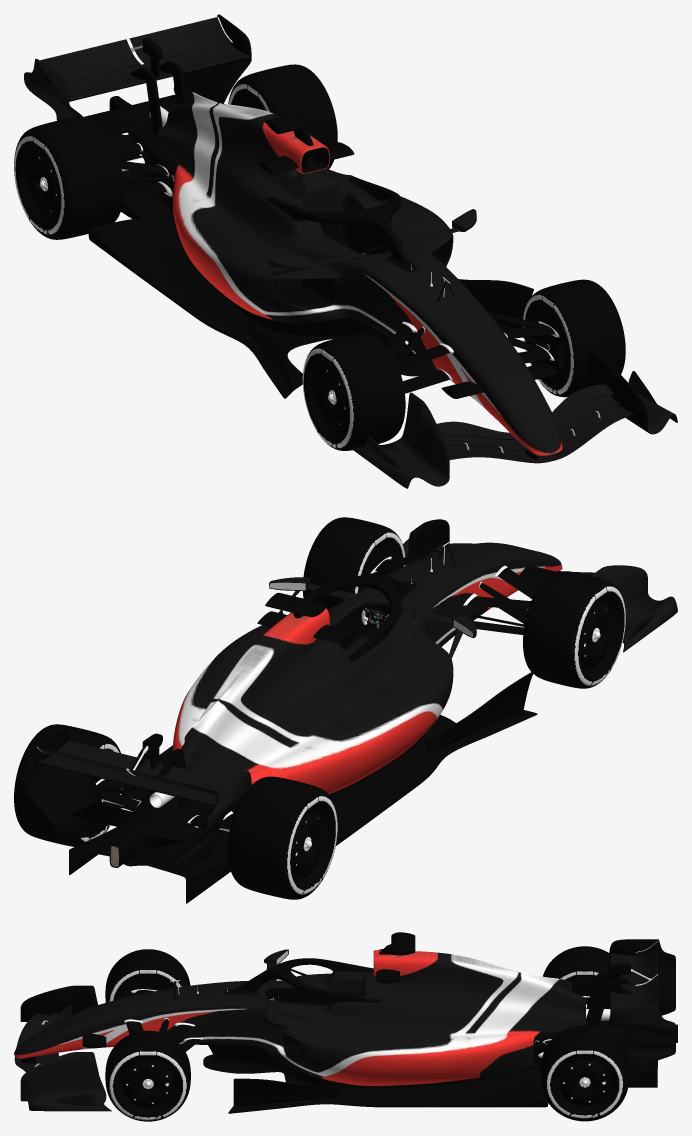
File: 2026-turn-one-car.glb
3 renders of one model, top to bottom at view 1: azimuth 30°, elevation 25°; view 2: azimuth 150°, elevation 25°; view 3: azimuth 270°, elevation 25°, orthographic. The views are drawn at different scales.
Parts seen in each view (by area): view 1: main_body, floor, front_tire, rear_tire, front_wing_side_plates, rear_wing_drs, rear_wing_side, front_control_arms, rear_wing_main_part, front_wing_bottom, front_wheel_cover, rear_wheel_cover (+10 smaller); view 2: main_body, floor, front_tire, rear_tire, rear_wing_side, front_wing_side_plates, rear_wing_main_part, front_control_arms, rear_wing_bottom_holder, rear_wheel_cover, front_wheel_cover, top_intake_details (+6 smaller); view 3: main_body, floor, rear_tire, front_tire, front_wing_side_plates, rear_wing_side, front_wheel_cover, rear_wheel_cover, rear_wing_drs, rear_wing_holder, top_intake_details, rear_wing_main_part (+8 smaller).
Boxes of the visible parts, x1,y1,x2,y2 form: main_body: (155, 90, 562, 455); floor: (88, 96, 533, 398); front_tire: (302, 279, 625, 450); rear_tire: (14, 64, 337, 239); front_wing_side_plates: (353, 348, 677, 488); rear_wing_drs: (40, 17, 231, 82); rear_wing_side: (24, 14, 251, 120); front_control_arms: (387, 312, 559, 393); rear_wing_main_part: (66, 43, 249, 101); front_wing_bottom: (446, 404, 634, 463); front_wheel_cover: (311, 360, 348, 435); rear_wheel_cover: (23, 147, 60, 222); main_body: (173, 542, 562, 797); floor: (69, 611, 537, 903); front_tire: (302, 517, 625, 688); rear_tire: (14, 724, 337, 899); rear_wing_side: (24, 726, 251, 868); front_wing_side_plates: (402, 519, 677, 652); rear_wing_main_part: (37, 740, 229, 806); front_control_arms: (370, 555, 538, 634); rear_wing_bottom_holder: (71, 802, 205, 844); rear_wheel_cover: (291, 807, 328, 882); front_wheel_cover: (579, 597, 616, 673); top_intake_details: (257, 592, 354, 643); main_body: (14, 950, 585, 1086); floor: (203, 1020, 677, 1113); rear_tire: (540, 946, 629, 1121); front_tire: (105, 949, 190, 1121); front_wing_side_plates: (20, 985, 111, 1111); rear_wing_side: (609, 939, 675, 1067); front_wheel_cover: (119, 1058, 177, 1111); rear_wheel_cover: (556, 1056, 613, 1109); rear_wing_drs: (635, 941, 657, 1006); rear_wing_holder: (586, 972, 632, 1027); top_intake_details: (376, 932, 415, 983); rear_wing_main_part: (610, 953, 635, 1013).
Bounding box in the file's own units: 1.85 × 1.13 × 5.11.
16 materials, 8 textured.
